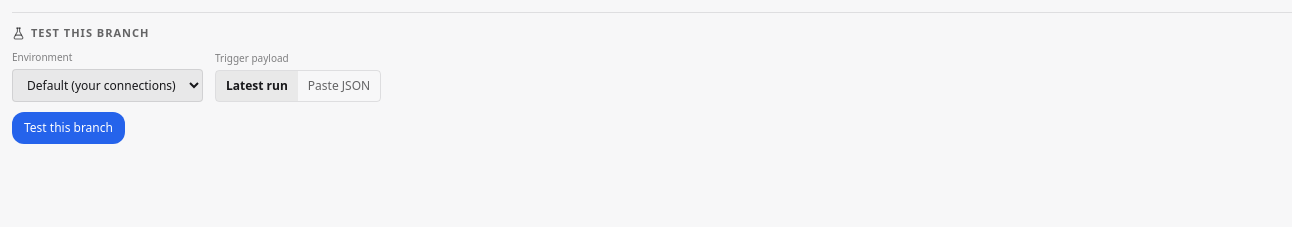
it: ReviewTestPanel — what the test would refuse, before it runs › asks again for the picked environment, names its empty slot, and holds the run
Expected: the button "Test this branch" is shown, [12,112,125,144]
Select "production" in the dropdown. click: (108, 85)
box: [12,68,203,102]
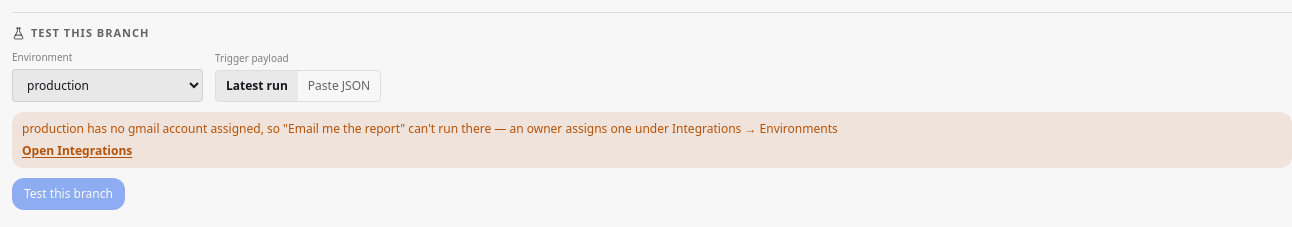
Expected: the message with test id "test-readiness" shows "production has no gmail account assigned", [22,120,838,136]
Expected: the button "Test this branch" is disabled, [12,178,125,210]
